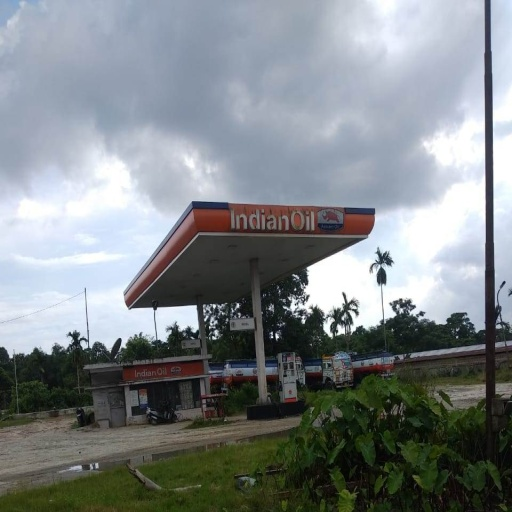roof: (125, 201, 374, 306)
